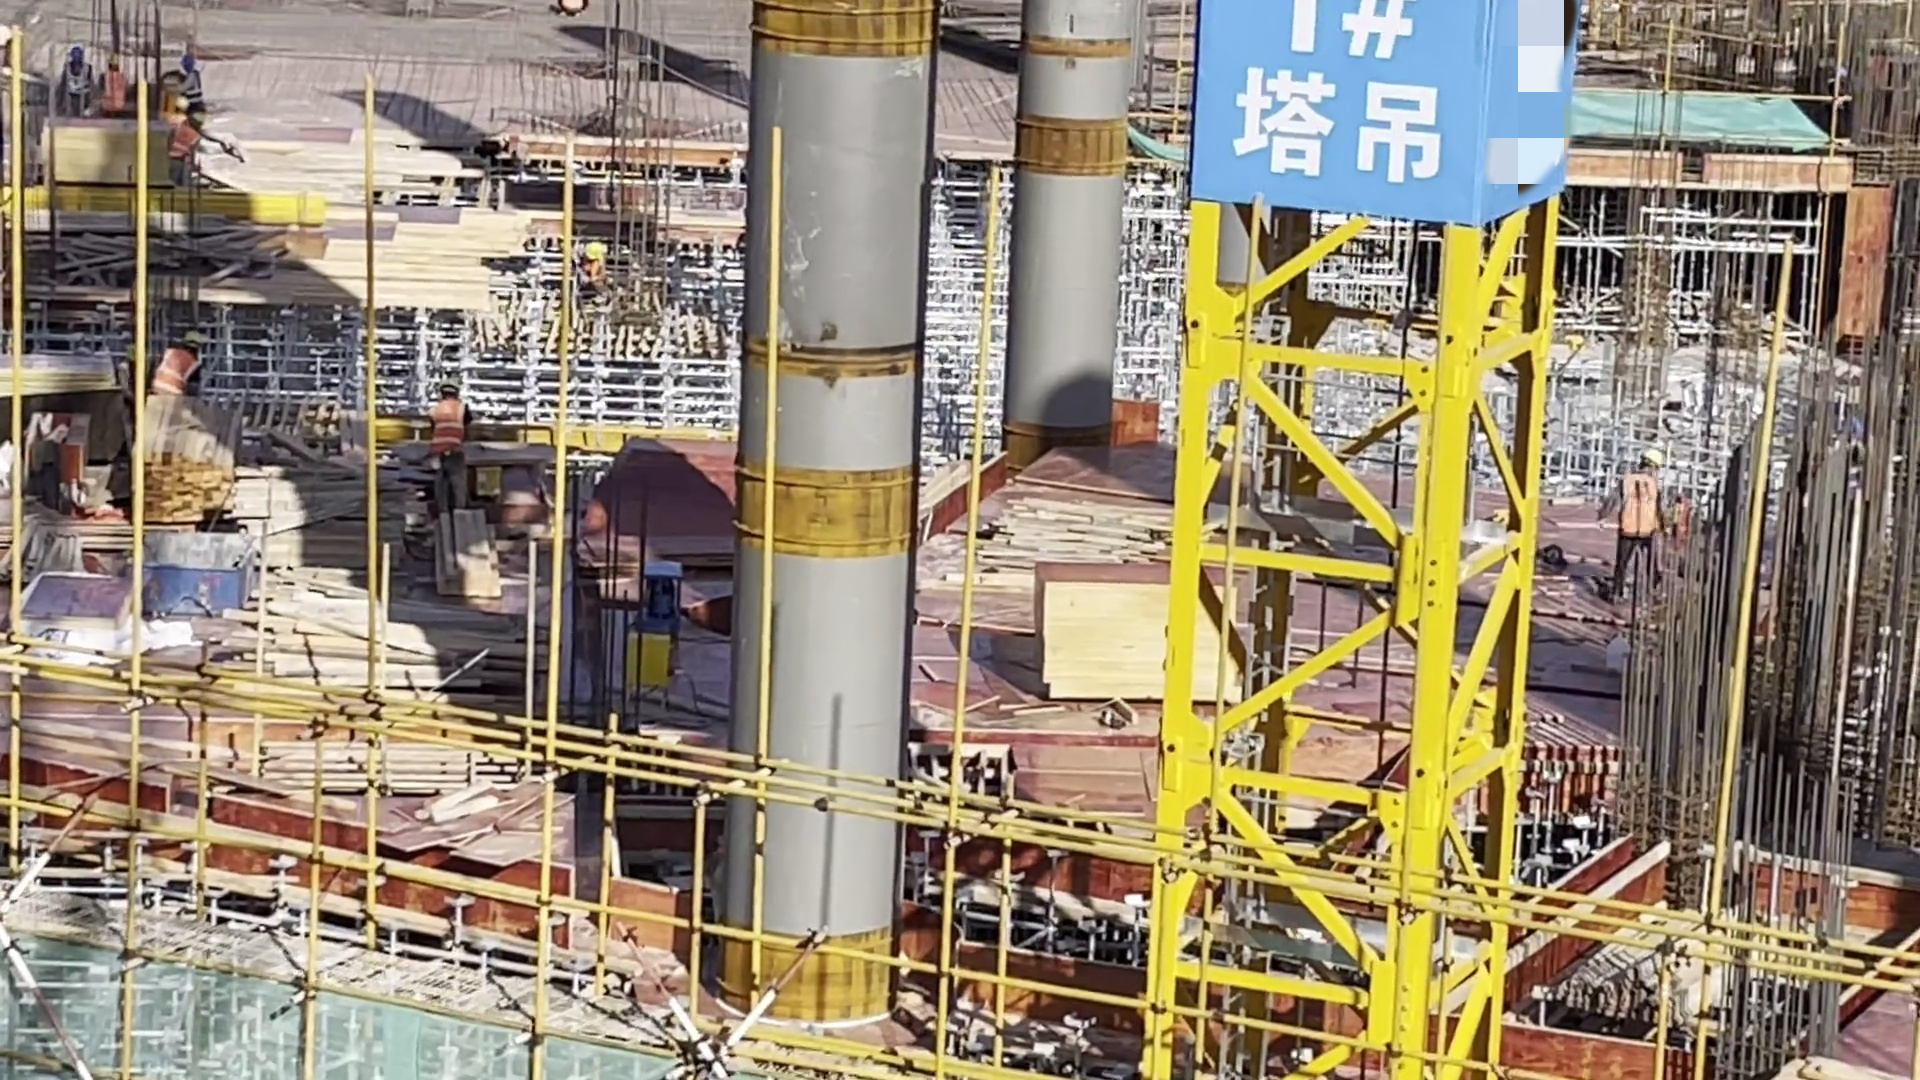board: (1023, 547, 1234, 719), (38, 116, 166, 187), (1, 355, 129, 404)
helmet: (436, 369, 464, 400), (580, 240, 608, 269), (1637, 447, 1666, 472), (180, 52, 196, 73), (106, 55, 122, 71), (68, 43, 85, 58)
hopper: (138, 530, 256, 626)
person: (1601, 444, 1676, 615), (422, 369, 473, 476), (148, 331, 211, 413), (172, 105, 225, 184), (569, 237, 608, 301), (58, 45, 88, 126), (175, 48, 208, 122), (98, 55, 129, 124)
slogan: (1188, 1, 1567, 194)
vest: (1614, 471, 1665, 549), (155, 345, 208, 406), (430, 396, 470, 466), (165, 122, 204, 163), (60, 62, 93, 101), (101, 72, 130, 114), (176, 75, 204, 104)
wood: (247, 580, 566, 698), (120, 403, 236, 524), (422, 510, 529, 619)
